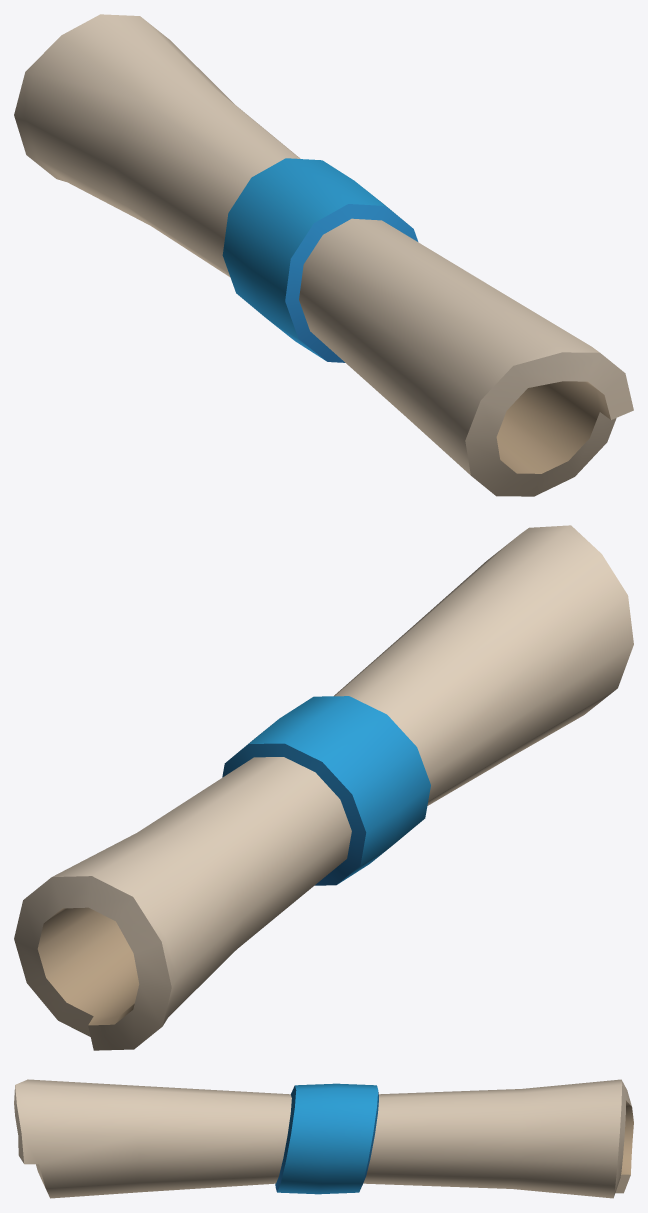
Rendered from map_rolled.glb.
3 views of the same model, one above another, from view 1: azimuth 30°, elevation 25°; view 2: azimuth 150°, elevation 25°; view 3: azimuth 270°, elevation 25° (orthographic). The views are drawn at different scales.
Parts seen in each view (by area): view 1: map_rolled; view 2: map_rolled; view 3: map_rolled.
Boxes of the visible parts, x1,y1,x2,y2 form: map_rolled: (14,14,633,496); map_rolled: (14,525,633,1050); map_rolled: (14,1079,633,1198).
Bounding box in the file's own units: 0.1438 × 0.1428 × 0.7327.
Materials: 1 (1 with a texture image).
